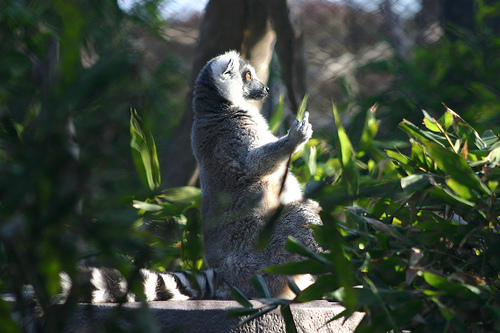cat: (17, 11, 344, 320)
